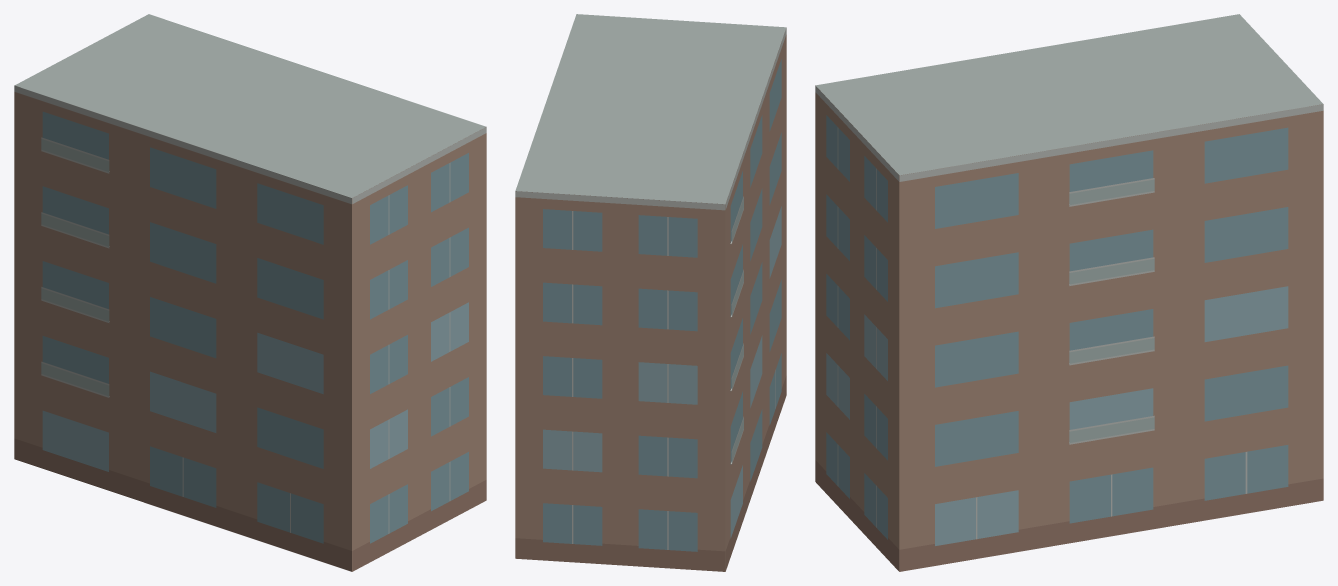
File: survey-upis-32886632.glb
3 views of the same model, side by side, from view 1: azimuth 30°, elevation 25°; view 2: azimuth 150°, elevation 25°; view 3: azimuth 270°, elevation 25° (orthographic). The views are drawn at different scales.
Parts seen in each view (by area): view 1: survey-upis-32886632.tmp; view 2: survey-upis-32886632.tmp; view 3: survey-upis-32886632.tmp.
Part boxes in pixels (x1=…): survey-upis-32886632.tmp: x1=14, y1=14, x2=486, y2=571; survey-upis-32886632.tmp: x1=515, y1=14, x2=786, y2=571; survey-upis-32886632.tmp: x1=815, y1=14, x2=1323, y2=571.
Bounding box in the file's own units: 12.75 × 14.6 × 16.97.
